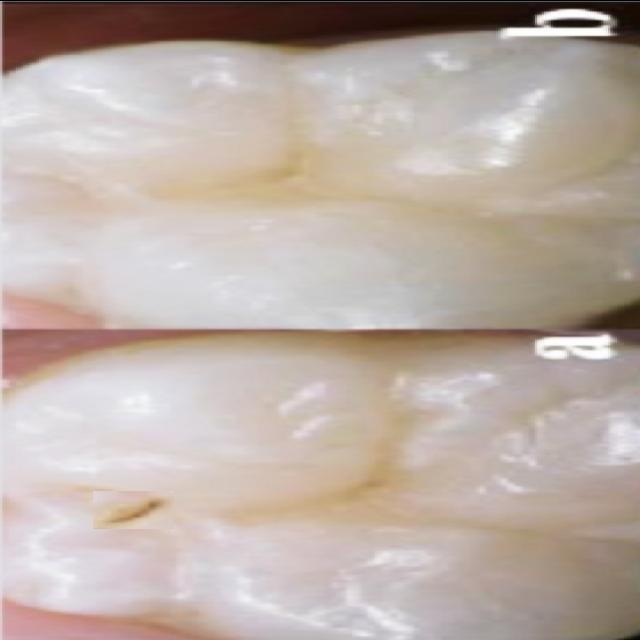decay: (93, 490, 174, 529)
